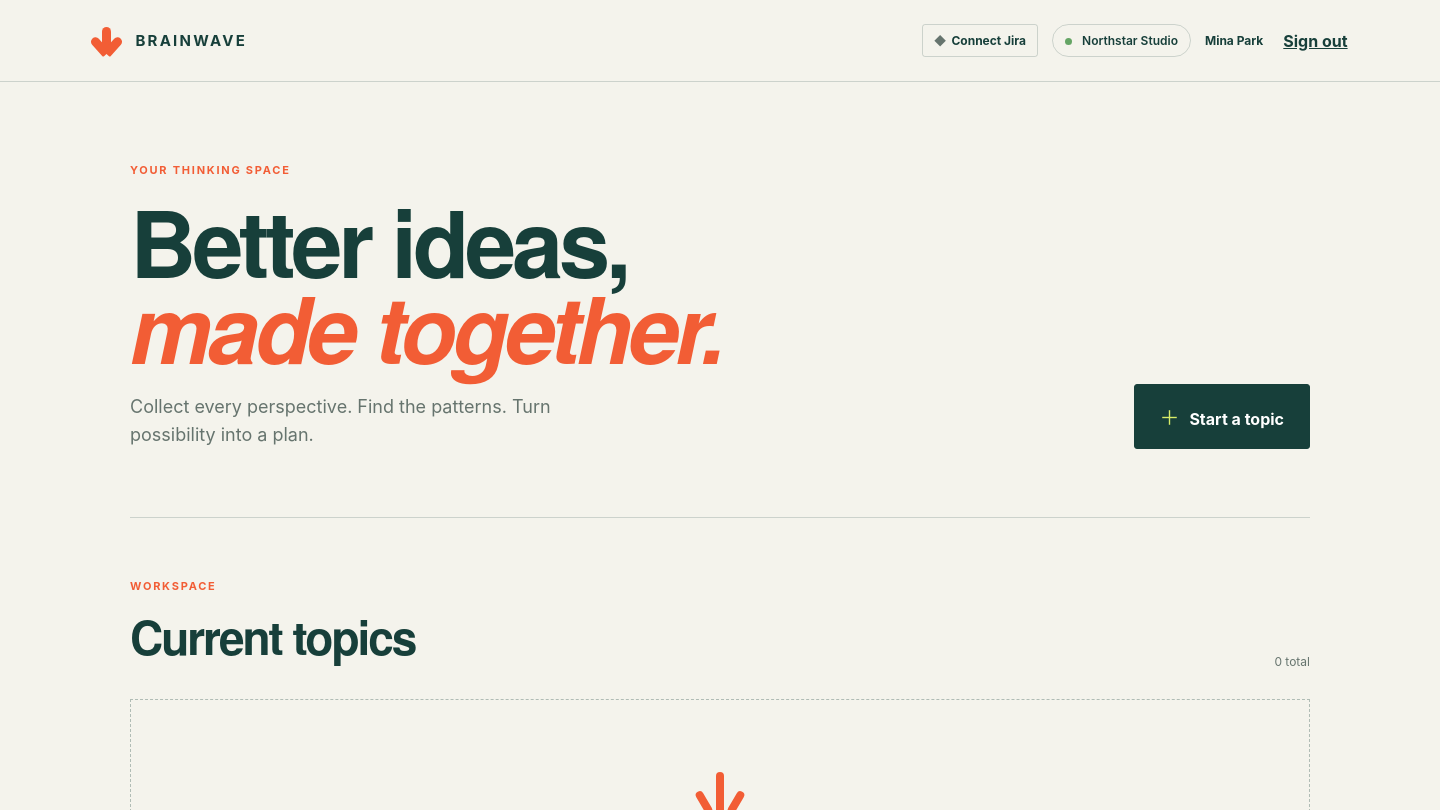
Brainwave › shows the signed-in account and signs out with CSRF protection
This screenshot has width=1440, height=810.
Check: the text "Northstar Studio" is shown, box x1=1052 y1=24 x2=1191 y2=57
Check: the text "Mina Park" is shown, box x1=1205 y1=33 x2=1263 y2=48
Click the button "Sign out". click: [1315, 40]
box: x1=1277 y1=30 x2=1354 y2=52
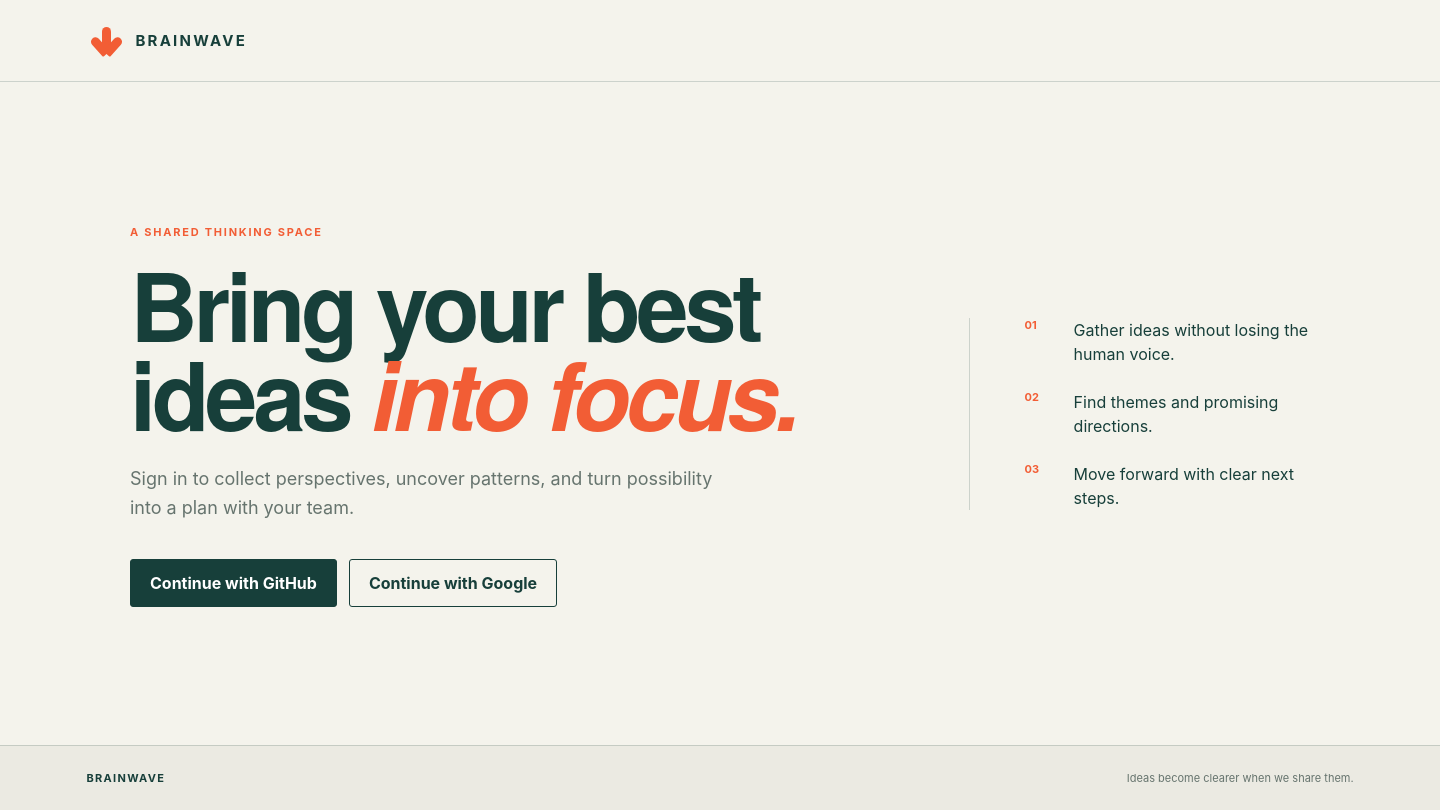
Check: the link "Continue with GitHub" is shown, box x1=130 y1=559 x2=337 y2=607
